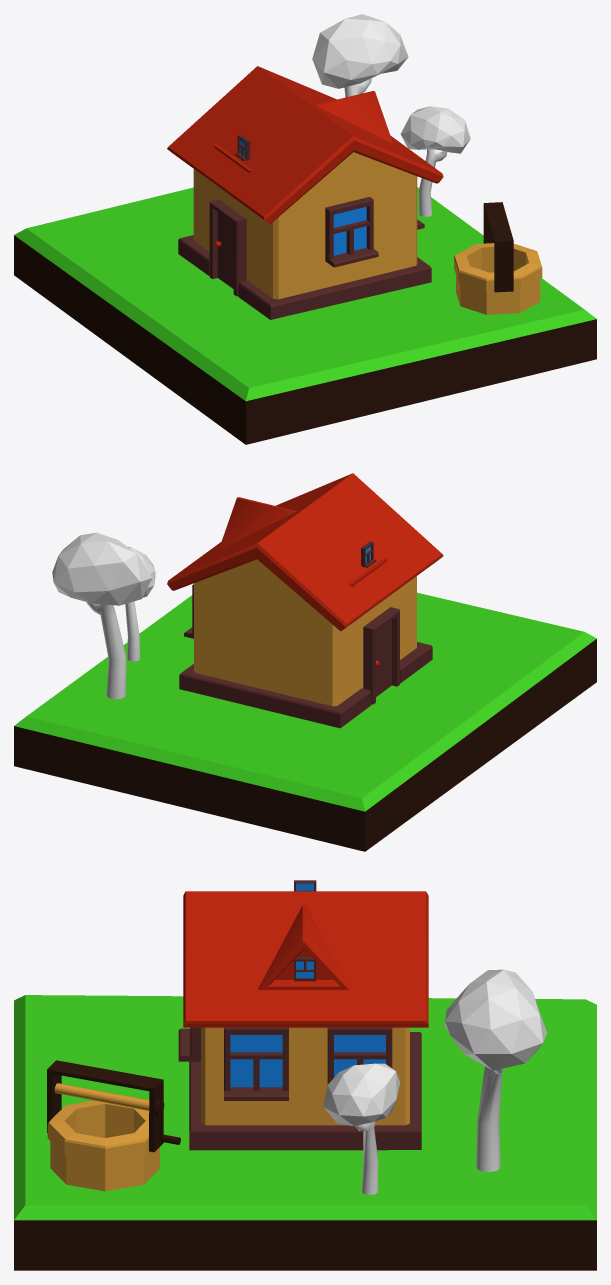
The model's file is House.FBX.
The picture shows the model from 3 angles, top to bottom: view 1: azimuth 30°, elevation 25°; view 2: azimuth 150°, elevation 25°; view 3: azimuth 270°, elevation 25°; orthographic projection. The views are drawn at different scales.
Parts seen in each view (by area): view 1: Box001, Box003, GeoSphere001, Box002, Cylinder004, Box004, Box007, GeoSphere002, Box015, Box008, Cylinder003; view 2: Box001, Box003, GeoSphere001, Box002, Box007, Box008, Cylinder002, Cylinder003; view 3: Box001, Box003, Cylinder004, Box002, GeoSphere001, Box012, GeoSphere002, Box008, Box015, Box013, Cylinder002, Cylinder003 (+3 smaller).
Boxes of the visible parts, box(x1,y1,x2,y2) form: Box001: box(14, 187, 596, 444); Box003: box(167, 66, 443, 299); GeoSphere001: box(312, 14, 408, 88); Box002: box(178, 235, 431, 319); Cylinder004: box(454, 243, 542, 314); Box004: box(325, 197, 378, 267); Box007: box(209, 199, 246, 296); GeoSphere002: box(400, 106, 470, 153); Box015: box(483, 202, 513, 292); Box008: box(315, 91, 392, 142); Cylinder003: box(418, 149, 447, 216); Box001: box(14, 592, 596, 851); Box003: box(167, 473, 443, 706); GeoSphere001: box(52, 532, 152, 605); Box002: box(179, 642, 432, 728); Box007: box(363, 607, 399, 704); Box008: box(219, 497, 296, 549); Cylinder002: box(86, 602, 126, 699); Cylinder003: box(125, 601, 139, 661); Box001: box(14, 995, 596, 1270); Box003: box(183, 891, 428, 1125); Cylinder004: box(47, 1100, 159, 1191); Box002: box(189, 1032, 421, 1150); GeoSphere001: box(444, 969, 546, 1070); Box012: box(224, 1027, 288, 1100); GeoSphere002: box(323, 1063, 400, 1126); Box008: box(258, 905, 350, 989); Box015: box(47, 1060, 163, 1152); Box013: box(327, 1027, 392, 1084); Cylinder002: box(476, 1066, 502, 1172); Cylinder003: box(355, 1121, 378, 1194).
Bounding box in the file's own units: 112 × 64.57 × 126.
